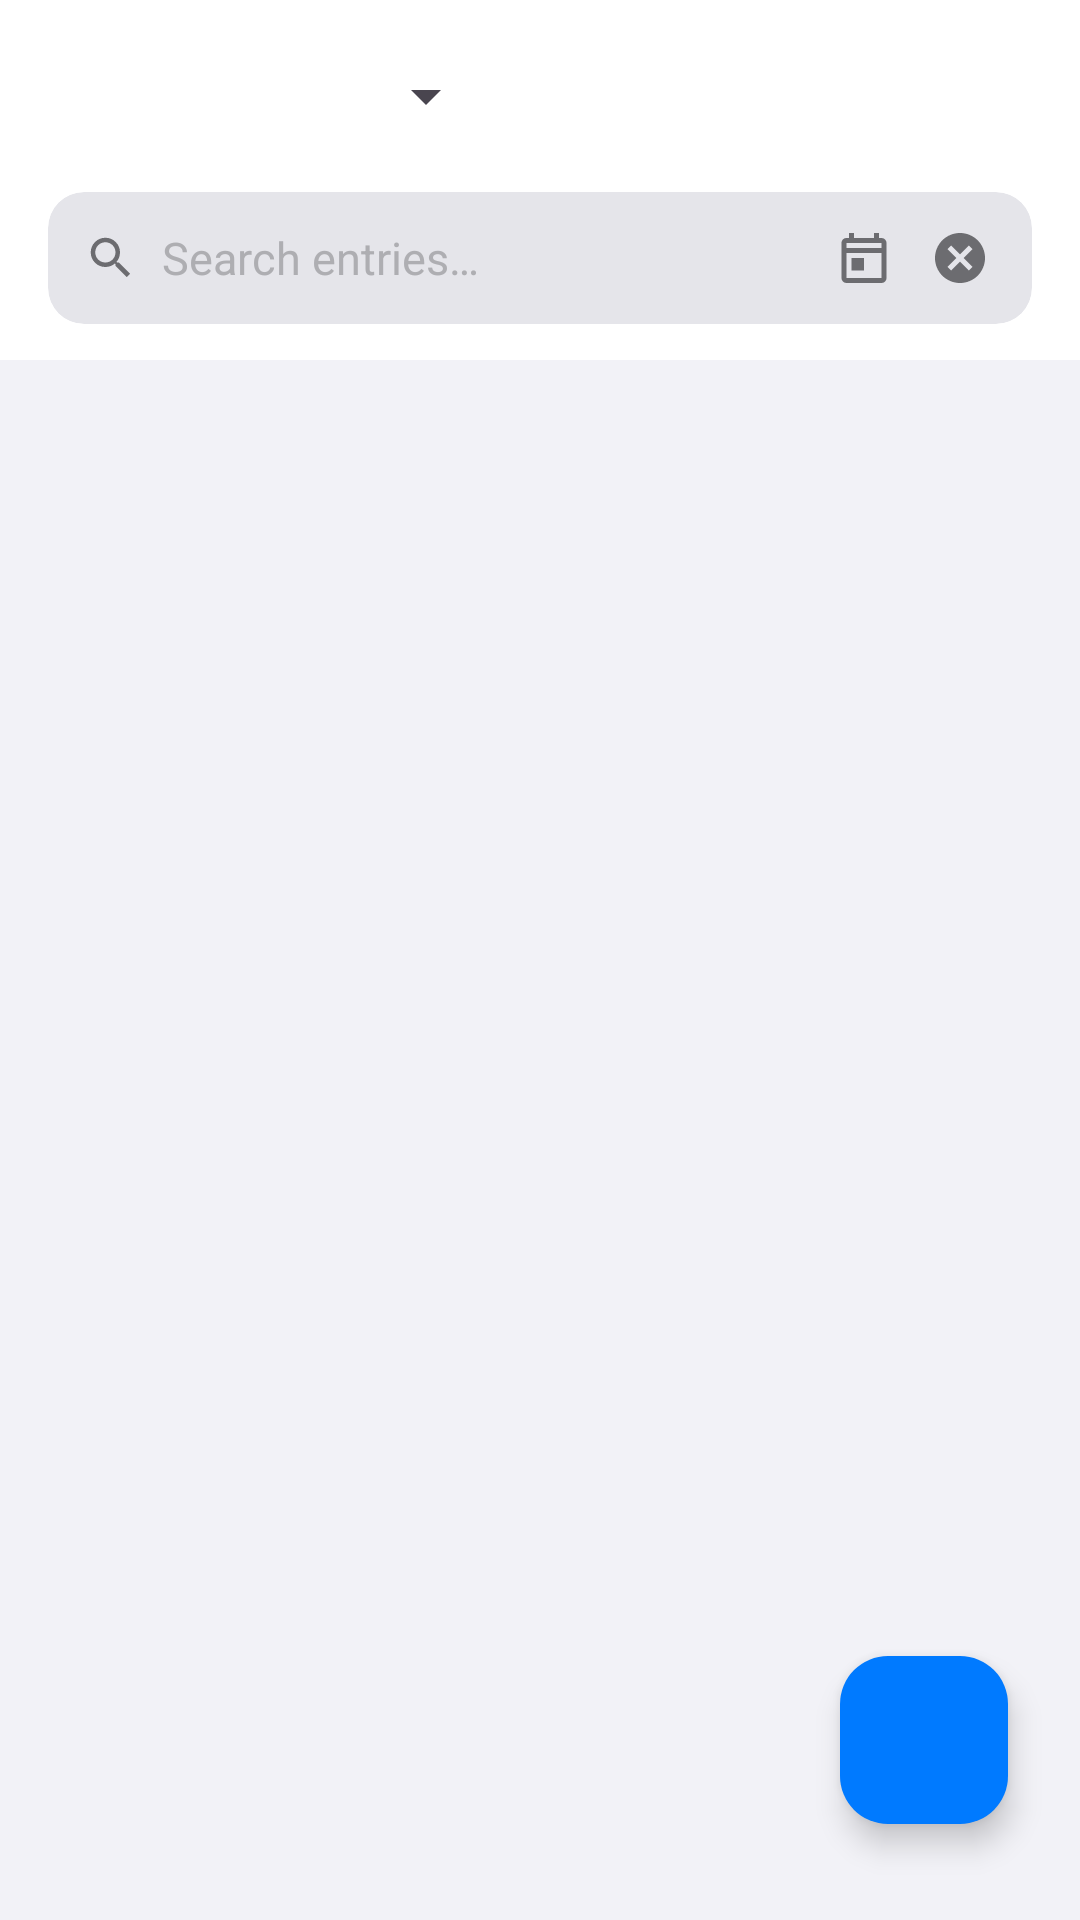

Icon bounding boxes for this 1080x1920 phone screenshot, format (x1, y1, x2, y2):
Clear search: (935, 233, 985, 283)
Filter by date: (841, 233, 887, 283)
